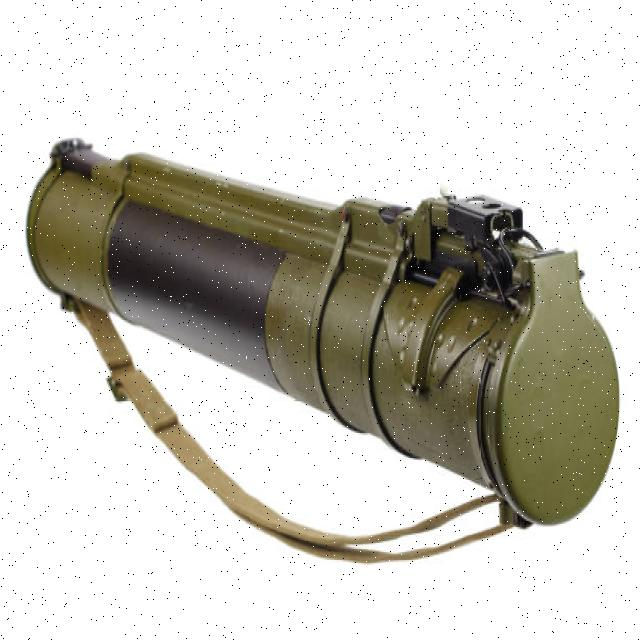bazooka: (15, 130, 630, 570)
